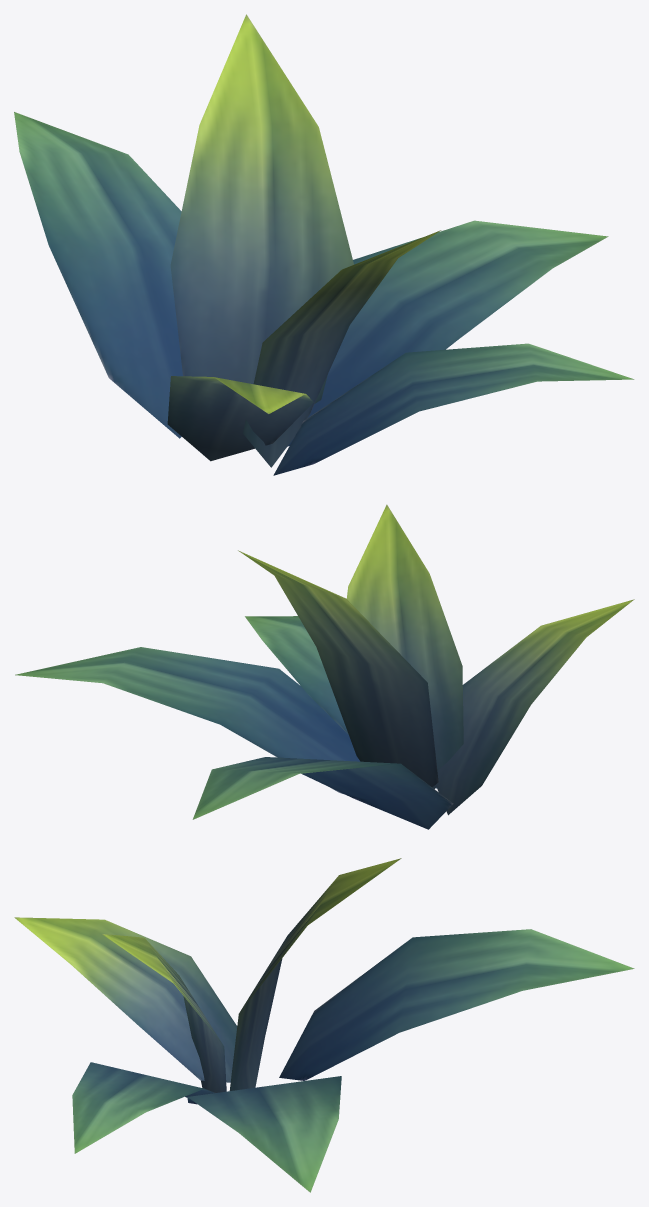
The model's file is scenes_cave_grass01a.FBX.
3 renders of one model, top to bottom at view 1: azimuth 30°, elevation 25°; view 2: azimuth 150°, elevation 25°; view 3: azimuth 270°, elevation 25°, orthographic. The views are drawn at different scales.
Visible parts, largest first — view 1: scenes_cave_grass01a; view 2: scenes_cave_grass01a; view 3: scenes_cave_grass01a.
Part boxes in pixels (x1,y1,x2,y2): scenes_cave_grass01a: (14,14,634,475); scenes_cave_grass01a: (15,504,634,829); scenes_cave_grass01a: (14,858,634,1192).
Size of the model in its own units: 113 by 71.9 by 141.
